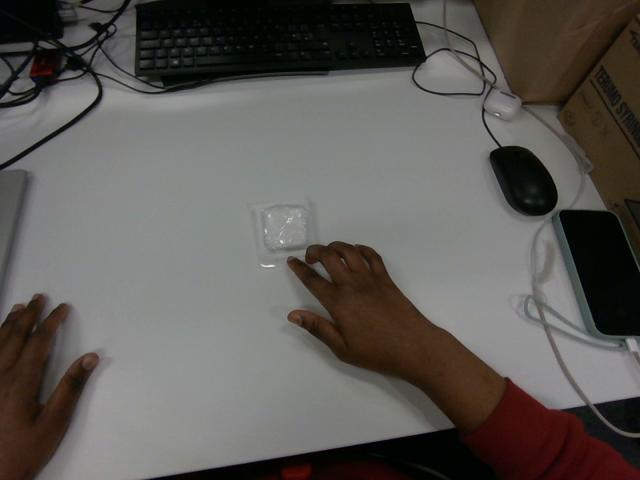gauze: (250, 199, 314, 267)
